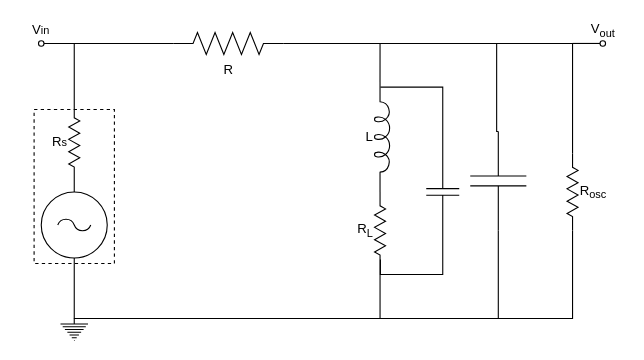
The diagram is 644 pixels wide and 360 high, and some of its shapes have lost their labels. Here are the shapes that lost their labels. From the top down, the box of each, then its label:
(425, 158, 459, 225): C L
(469, 130, 526, 230): C osc
